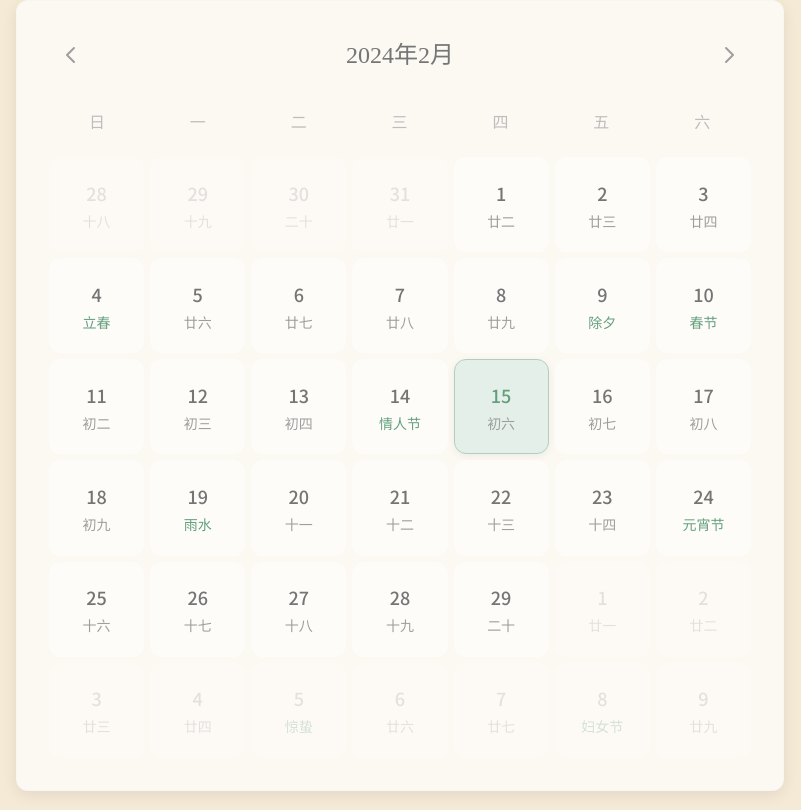
Test case: CalendarView › 月份导航 (Month Navigation) › should navigate to next month when next button is clicked
Click the button with test id "next-month-btn": (729,55) [707,33,751,77]
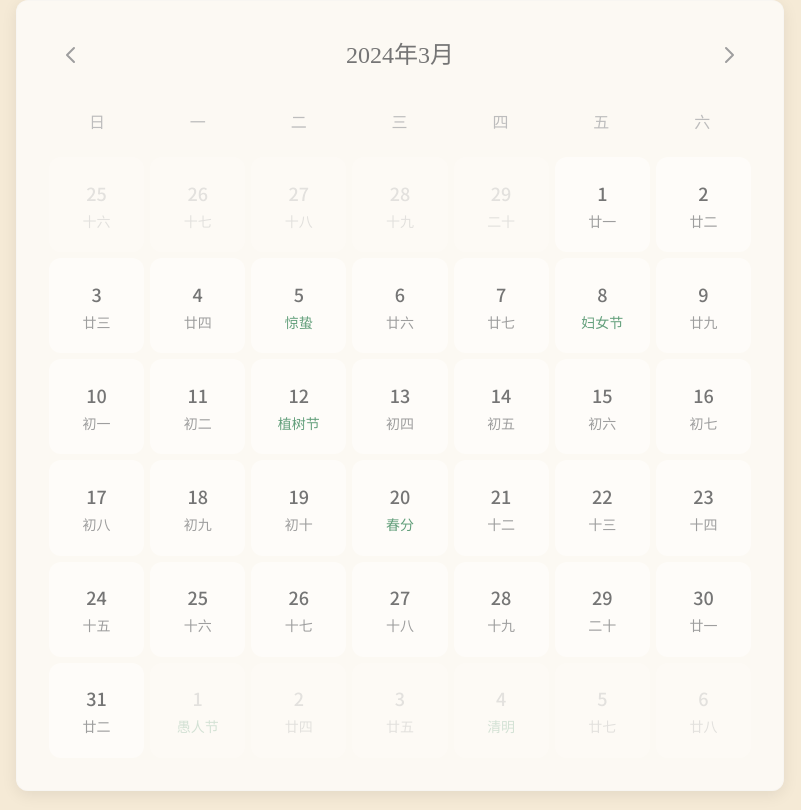
Check: the heading with test id "month-title" reads "2024年3月", box [346,42,454,68]
